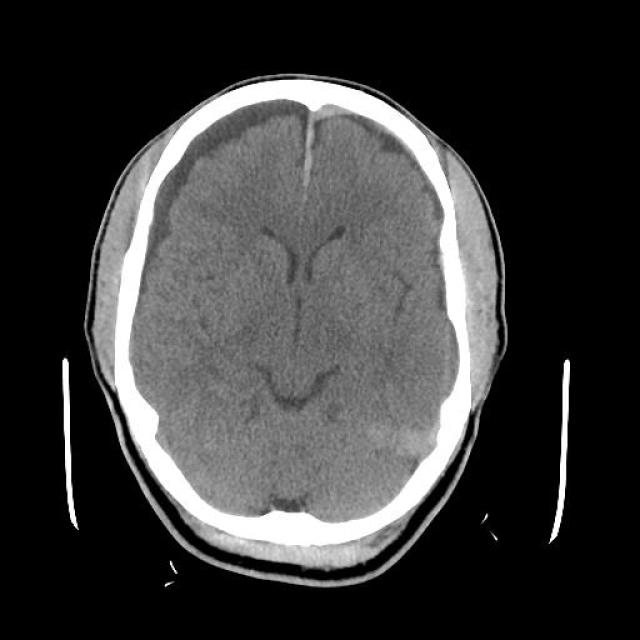Subdural: (291, 96, 404, 190)
